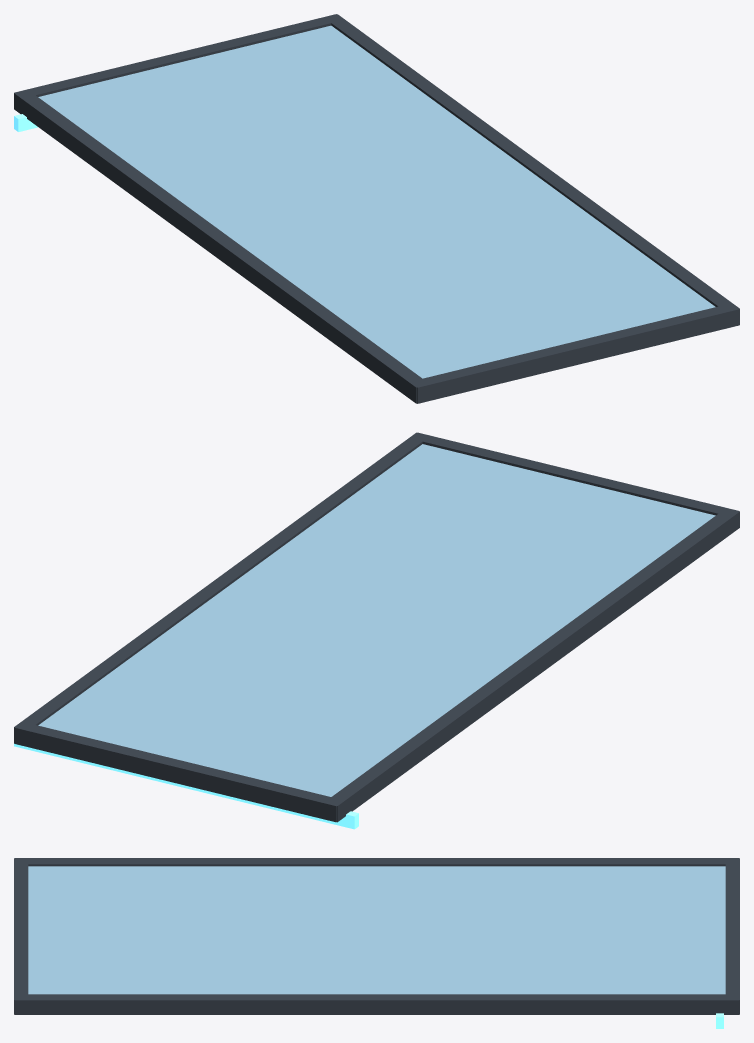
File: ARCH_GLASS_DOOR_001.glb
The picture shows the model from 3 angles, top to bottom: view 1: azimuth 30°, elevation 25°; view 2: azimuth 150°, elevation 25°; view 3: azimuth 270°, elevation 25°; orthographic projection. The views are drawn at different scales.
Visible parts, largest first — view 1: glass_panel_000, side_frame_003, top_frame_001, side_frame_004, bottom_frame_002; view 2: glass_panel_000, side_frame_003, bottom_frame_002, side_frame_004, top_frame_001, floor_blue_glow_006; view 3: glass_panel_000, side_frame_004, side_frame_003, bottom_frame_002, top_frame_001.
Part boxes in pixels (x1,y1,x2,y2): glass_panel_000: [38, 25, 715, 378]; side_frame_003: [14, 92, 429, 403]; top_frame_001: [410, 303, 739, 403]; side_frame_004: [325, 14, 739, 324]; bottom_frame_002: [14, 14, 343, 97]; glass_panel_000: [38, 444, 715, 796]; side_frame_003: [324, 508, 739, 822]; bottom_frame_002: [14, 722, 343, 822]; side_frame_004: [14, 432, 429, 742]; top_frame_001: [410, 432, 739, 516]; floor_blue_glow_006: [14, 743, 358, 829]; glass_panel_000: [28, 866, 725, 994]; side_frame_004: [14, 994, 739, 1014]; side_frame_003: [14, 858, 739, 866]; bottom_frame_002: [725, 858, 739, 1014]; top_frame_001: [14, 858, 28, 1014].
Bounding box in the file's own units: 1.1 × 0.088 × 2.26.
